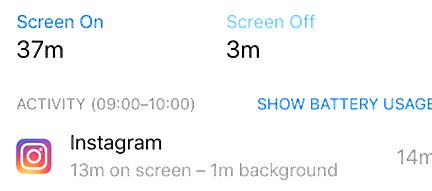activity: (8, 85, 223, 125)
